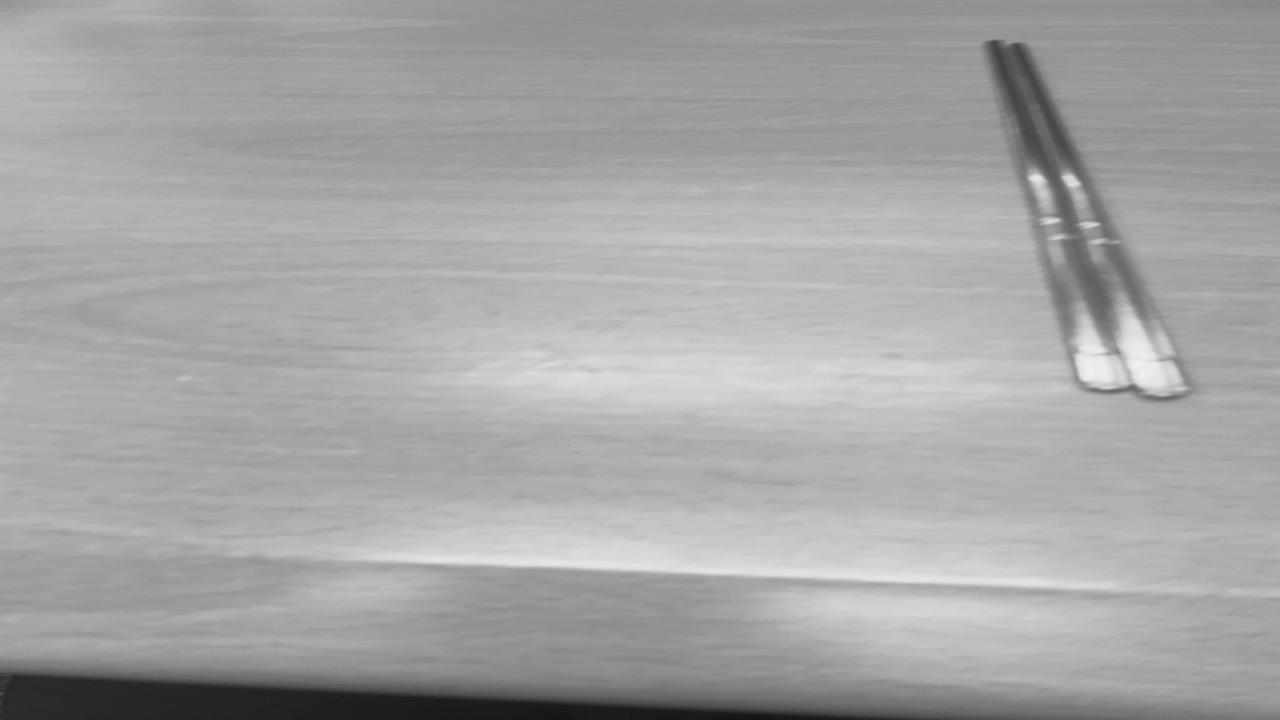chopstick: (984, 40, 1190, 396)
